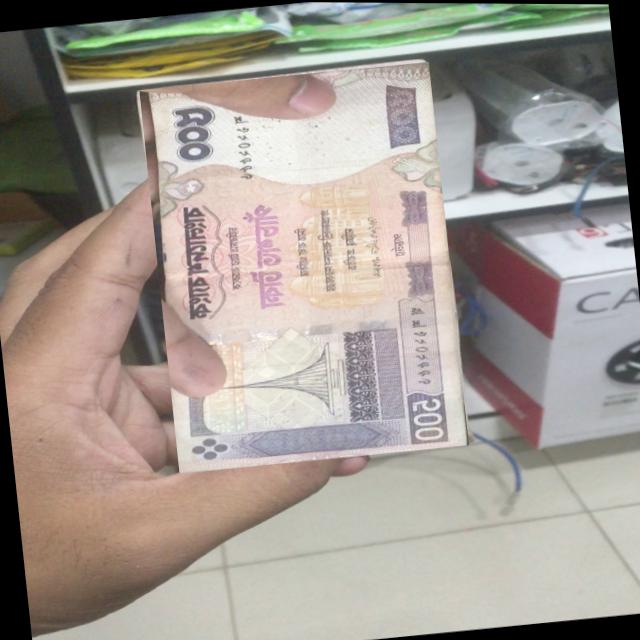Taka: (139, 59, 468, 474)
